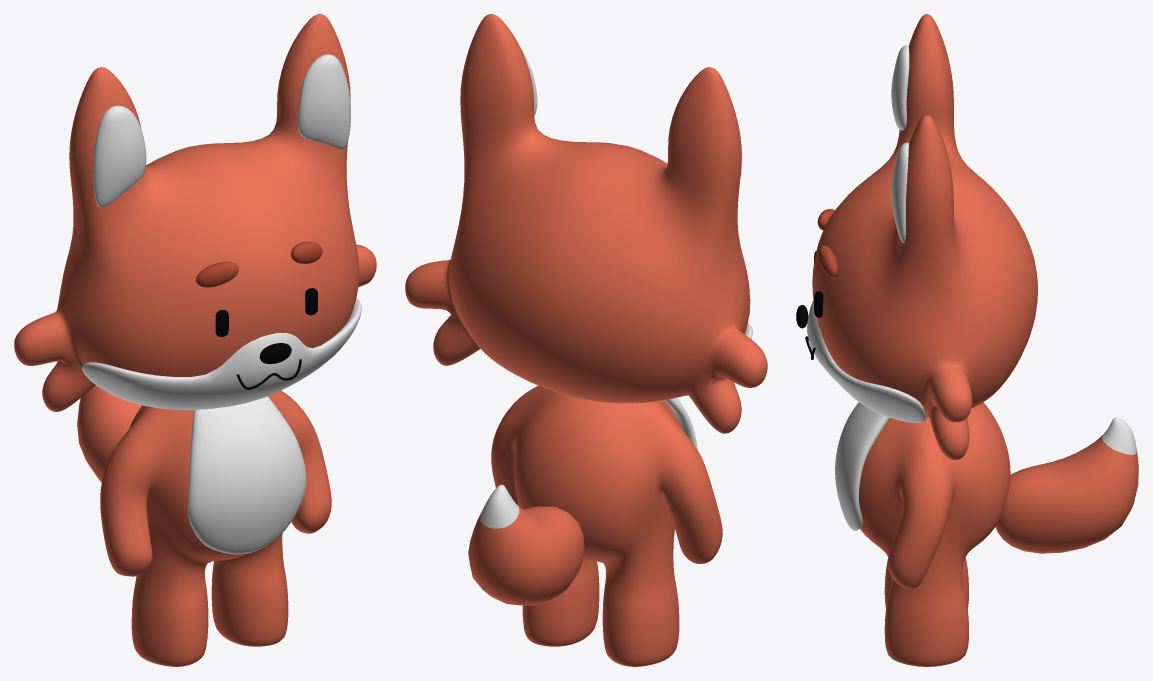
File: Fox.glb
3 renders of one model, left to right at view 1: azimuth 30°, elevation 25°; view 2: azimuth 150°, elevation 25°; view 3: azimuth 270°, elevation 25°, orthographic. The views are drawn at different scales.
Visible parts, largest first — view 1: Cube.002, Cube.001, Cube.005, Cube.003, Cube.004, Cube.009, Cube.007, Cube.006, Cube.008; view 2: Cube.002, Cube.001, Cube.009, Cube.005; view 3: Cube.002, Cube.001, Cube.009, Cube.005, Cube.003, Cube.004, Cube.007.
Boxes of the visible parts, x1,y1,x2,y2 form: Cube.002: (14,14,376,411); Cube.001: (100,390,331,666); Cube.005: (188,396,306,554); Cube.003: (82,298,361,409); Cube.004: (93,54,350,207); Cube.009: (77,385,141,482); Cube.007: (196,241,322,287); Cube.006: (215,288,317,336); Cube.008: (259,343,291,364); Cube.002: (405,14,767,433); Cube.001: (491,385,722,666); Cube.009: (468,484,584,605); Cube.005: (664,398,697,449); Cube.002: (812,14,1037,459); Cube.001: (859,402,1010,666); Cube.009: (995,417,1138,553); Cube.005: (835,402,889,530); Cube.003: (807,301,925,422); Cube.004: (891,45,909,243); Cube.007: (817,209,837,277).
Bounding box in the file's own units: 3.38 × 5.44 × 2.96.
